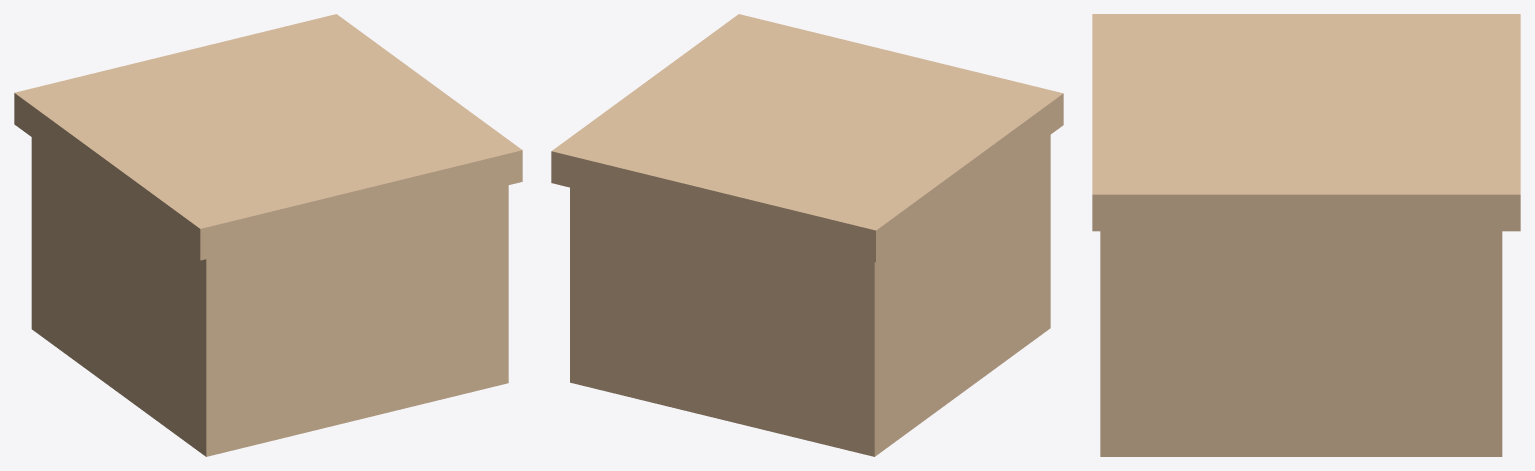
3 views of the same model, side by side, from view 1: azimuth 30°, elevation 25°; view 2: azimuth 150°, elevation 25°; view 3: azimuth 270°, elevation 25° (orthographic). The views are drawn at different scales.
Visible parts, largest first — view 1: container, lid; view 2: container, lid; view 3: lid, container.
Boxes of the visible parts, x1,y1,x2,y2 form: container: (31,137,508,456); lid: (14,14,522,260); container: (570,135,1050,456); lid: (551,14,1063,262); lid: (1092,14,1520,231); container: (1100,231,1502,456).
Bounding box in the file's own units: 11.36 × 7.85 × 11.36.
